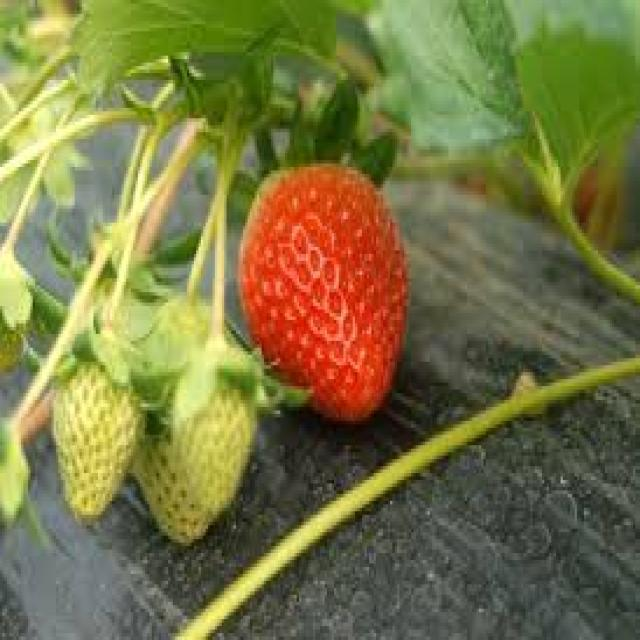strawberry: (238, 160, 412, 423), (54, 366, 137, 522), (178, 356, 256, 516)
